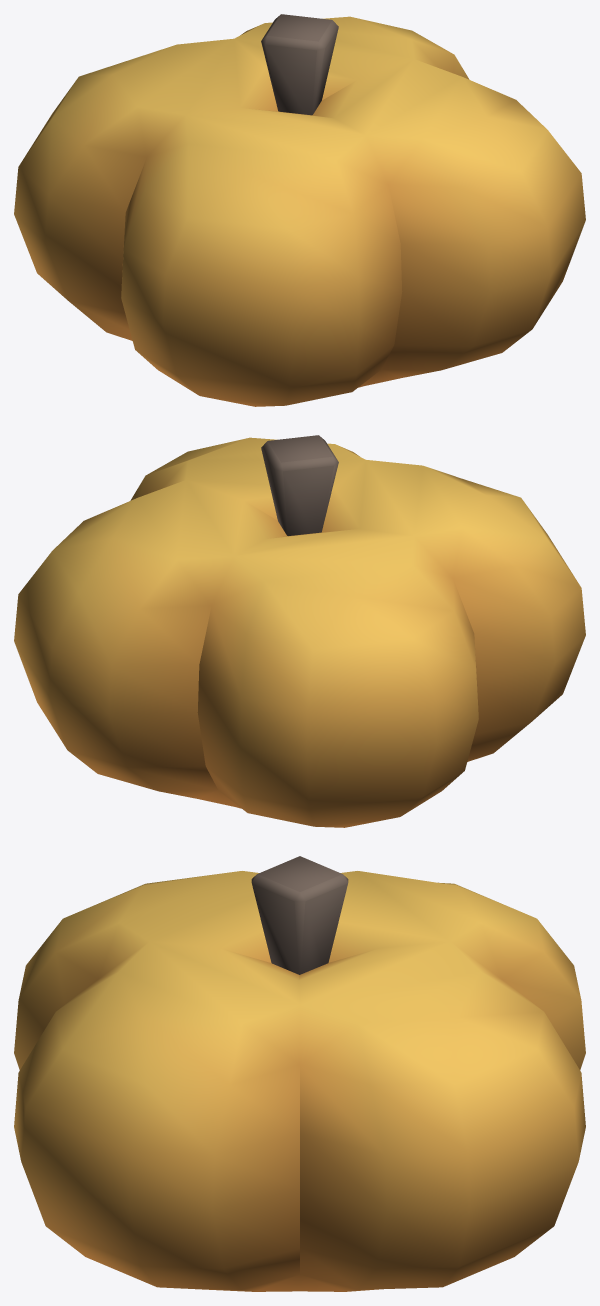
The model's file is hw-pumpkin_yellow.glb.
3 renders of one model, top to bottom at view 1: azimuth 30°, elevation 25°; view 2: azimuth 150°, elevation 25°; view 3: azimuth 270°, elevation 25°, orthographic. The views are drawn at different scales.
Parts seen in each view (by area): view 1: pumpkin_yellow; view 2: pumpkin_yellow; view 3: pumpkin_yellow.
Boxes of the visible parts, x1,y1,x2,y2 form: pumpkin_yellow: (14,14,585,406); pumpkin_yellow: (14,435,585,827); pumpkin_yellow: (14,856,585,1291).
Bounding box in the file's own units: 1 × 0.7 × 1.
Materials: 1 (1 with a texture image).
